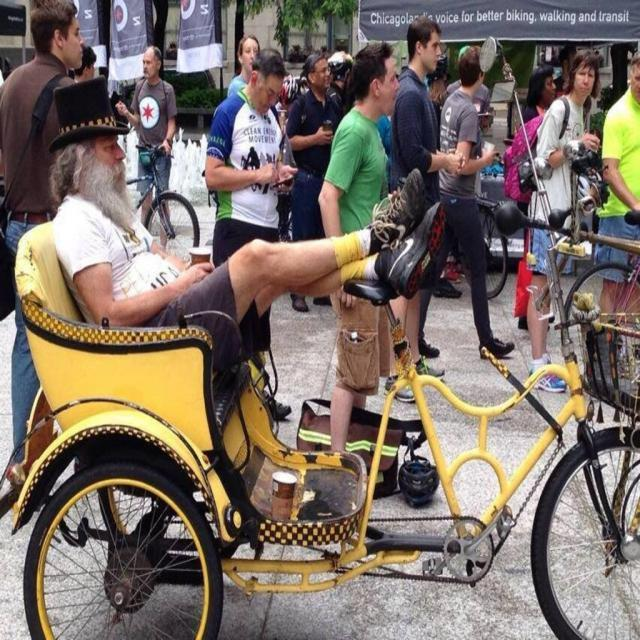car: (558, 206, 638, 402), (103, 150, 218, 268), (445, 190, 508, 299)
